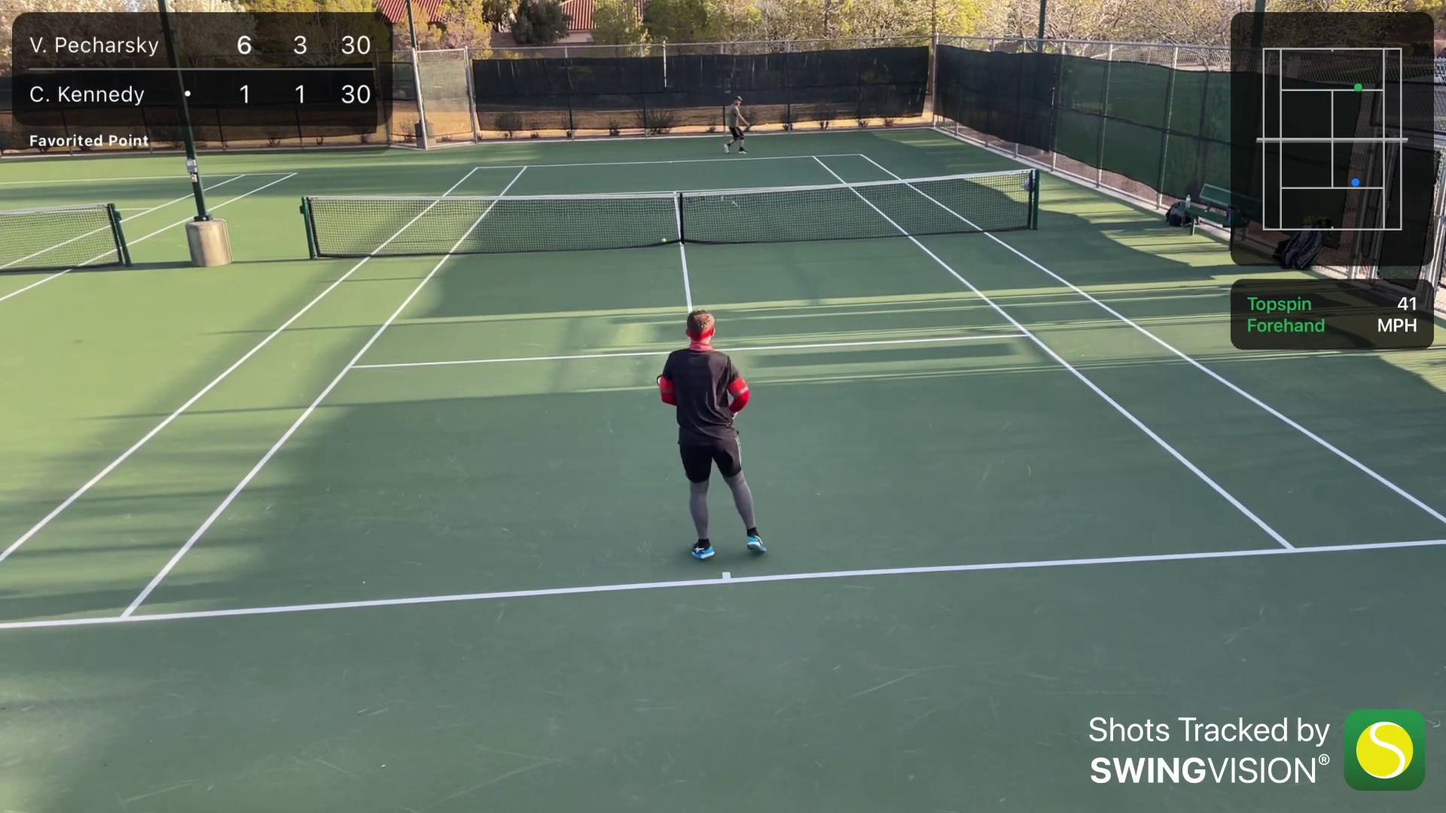ball: (660, 235, 669, 245)
